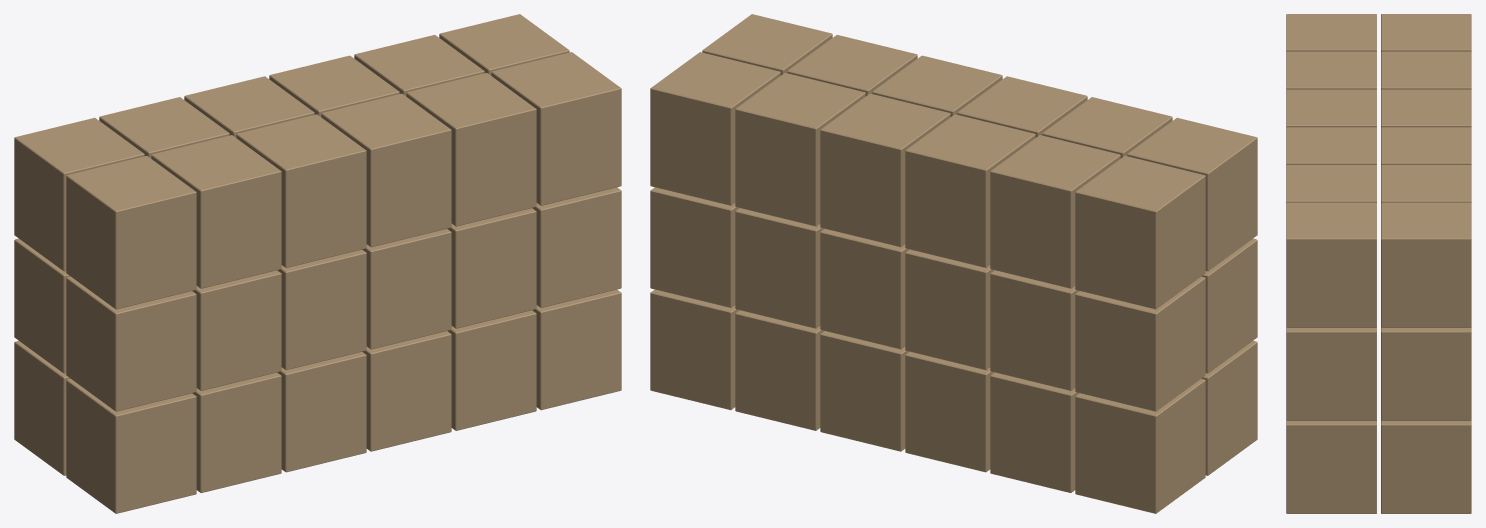
The model's file is diligence_crates.glb.
3 views of the same model, side by side, from view 1: azimuth 30°, elevation 25°; view 2: azimuth 150°, elevation 25°; view 3: azimuth 270°, elevation 25° (orthographic). The views are drawn at different scales.
Visible parts, largest first — view 1: diligence_crates; view 2: diligence_crates; view 3: diligence_crates.
Part boxes in pixels (<box>): diligence_crates: <box>14,14,621,513</box>; diligence_crates: <box>650,14,1257,513</box>; diligence_crates: <box>1286,14,1471,513</box>.
Bounding box in the file's own units: 5.6 × 3.2 × 1.95.
